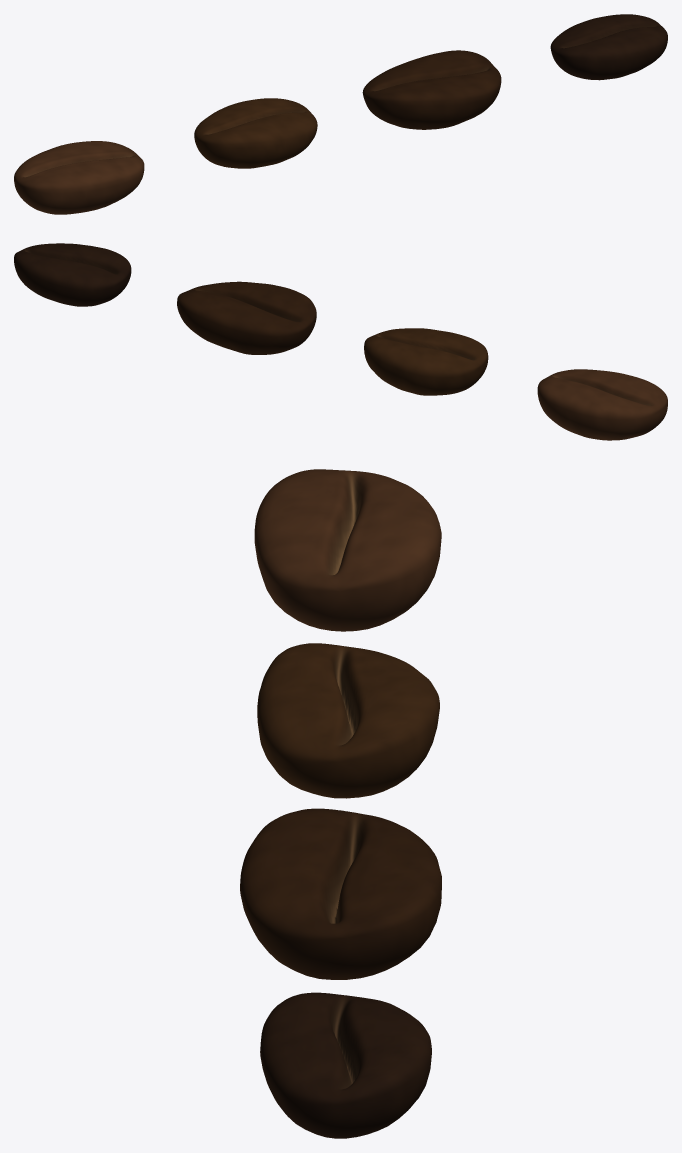
Rendered from coffee-beans.glb.
3 views of the same model, one above another, from view 1: azimuth 30°, elevation 25°; view 2: azimuth 150°, elevation 25°; view 3: azimuth 270°, elevation 25° (orthographic). The views are drawn at different scales.
Parts seen in each view (by area): view 1: bean-2, bean-0, bean-1, bean-3; view 2: bean-2, bean-0, bean-1, bean-3; view 3: bean-2, bean-0, bean-1, bean-3.
Part boxes in pixels (x1=…): bean-2: x1=362, y1=50, x2=501, y2=129; bean-0: x1=14, y1=141, x2=144, y2=214; bean-1: x1=194, y1=98, x2=317, y2=168; bean-3: x1=550, y1=14, x2=667, y2=80; bean-2: x1=177, y1=281, x2=316, y2=354; bean-0: x1=537, y1=369, x2=667, y2=440; bean-1: x1=364, y1=328, x2=488, y2=395; bean-3: x1=14, y1=243, x2=131, y2=306; bean-2: x1=240, y1=808, x2=441, y2=979; bean-0: x1=254, y1=469, x2=441, y2=631; bean-1: x1=257, y1=643, x2=439, y2=798; bean-3: x1=260, y1=992, x2=431, y2=1138.
Bounding box in the file's own units: 10.9 × 0.8115 × 1.49.
